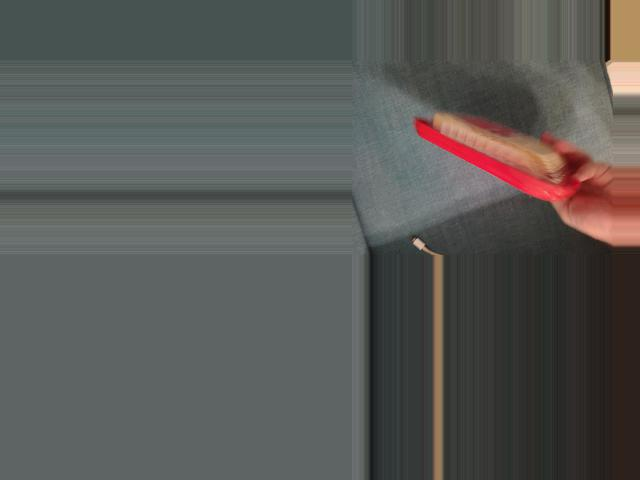cheese: (413, 105, 580, 209)
